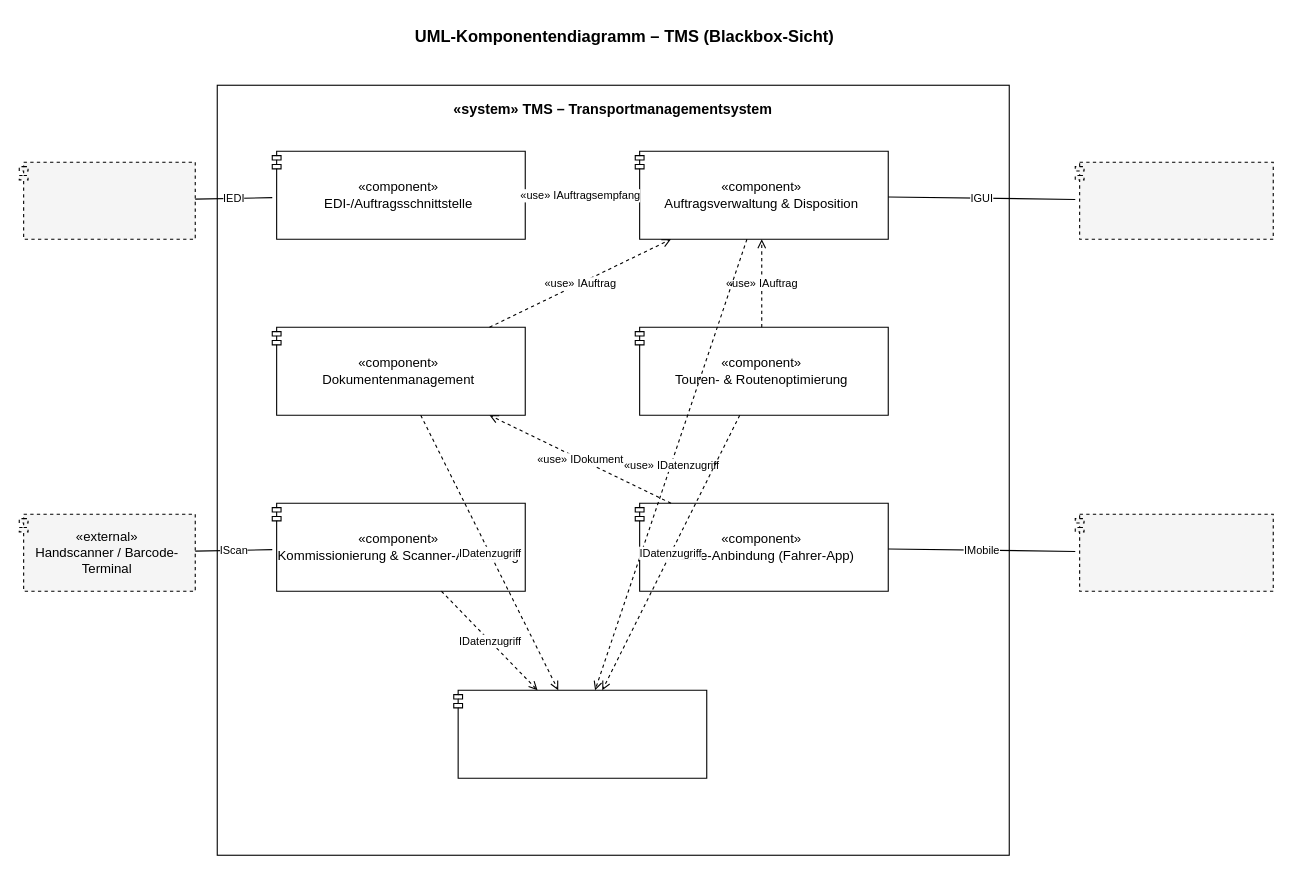
Image size: 1293x875. Some labels were removed from this diagram. Each missing label, with the box of its shape:
«component» Datenhaltung / TMS-Datenbank: (453, 689, 707, 778)
«external» Benutzer-GUI (Disponent/Lager): (1074, 161, 1273, 239)
«external» Mobiles Fahrergerät: (1074, 513, 1273, 591)
«external» Spediteur-System (EDI): (18, 161, 195, 239)
